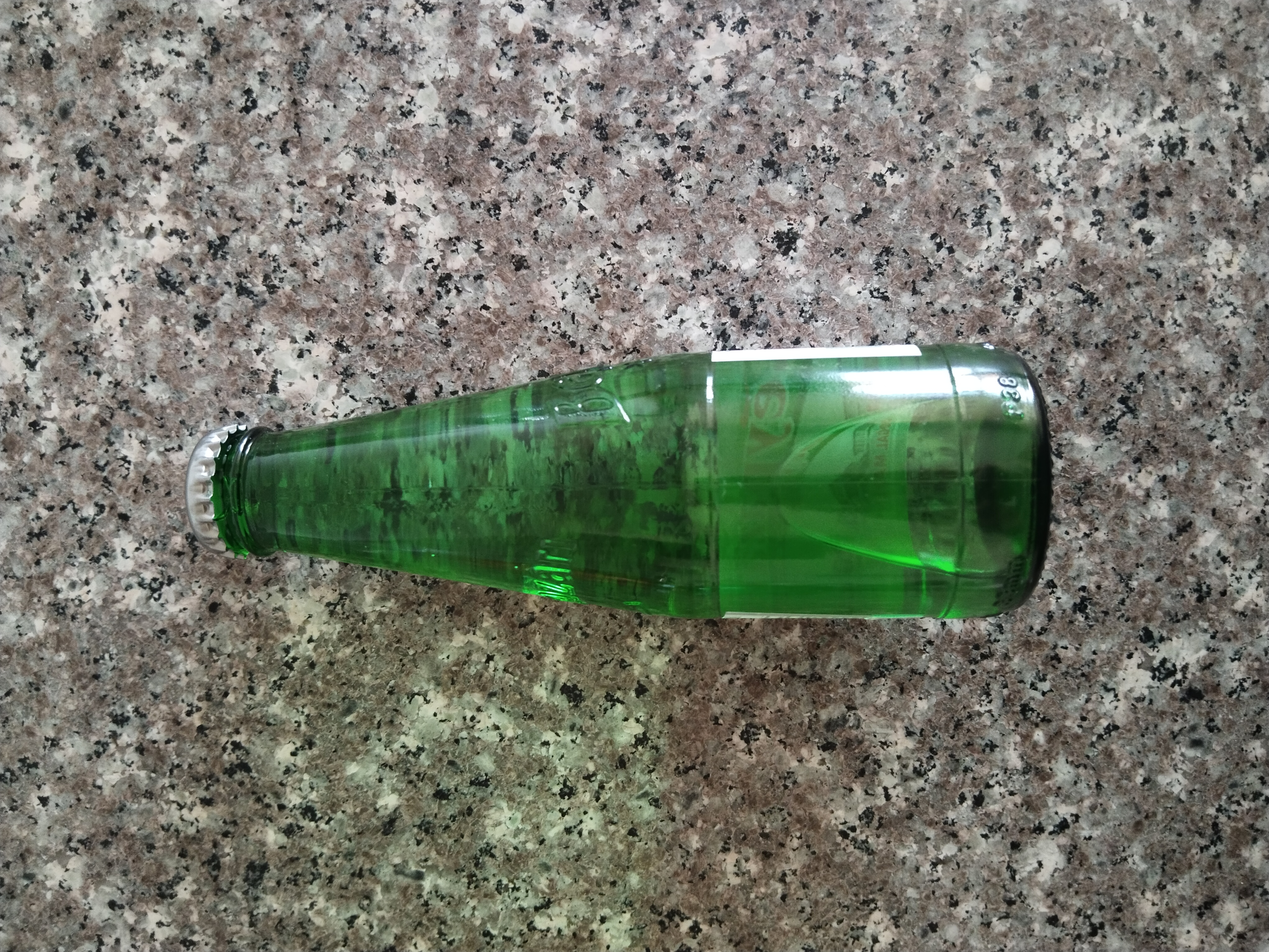beypazari_maden_suyu: (191, 343, 1048, 618)
